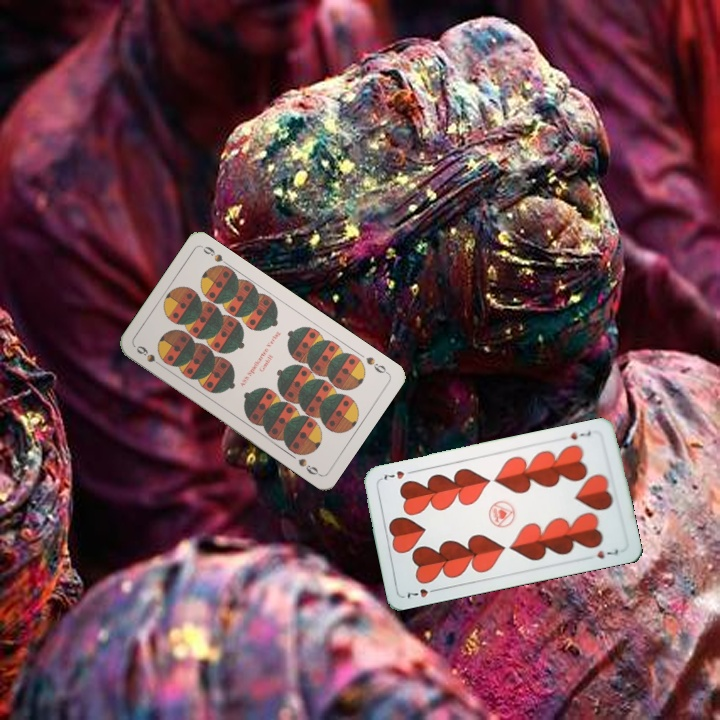H7: (403, 584, 441, 601), (566, 427, 593, 442)
S9: (132, 341, 167, 370), (362, 352, 391, 377)
